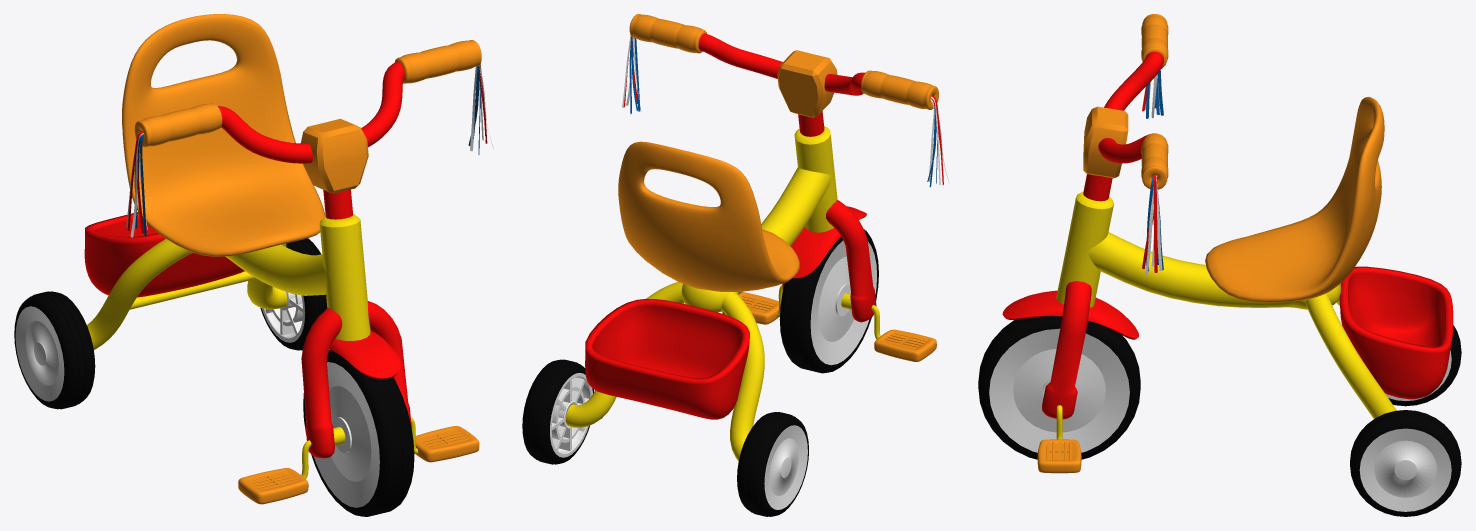
File: low_poly_kids_tricycle.glb
3 renders of one model, left to right at view 1: azimuth 30°, elevation 25°; view 2: azimuth 150°, elevation 25°; view 3: azimuth 270°, elevation 25°, orthographic. The views are drawn at different scales.
Visible parts, largest first — view 1: Cube.002, Cylinder.001, Cylinder.002, Cylinder, Cube, Circle, Cube.003, BezierCurve.001, Cube.004, BezierCurve.002, Cube.001, Cylinder.005 (+3 smaller); view 2: Cube.002, Cube, Cylinder.002, Cylinder.001, Cylinder, BezierCurve.001, Cube.003, Cube.004, Circle, BezierCurve.002, Cube.001, Plane.002 (+2 smaller); view 3: Cylinder.001, Cube.002, Cube, Cylinder.002, Cylinder, Circle, BezierCurve.001, Cube.003, Cube.004, Cylinder.005, BezierCurve.002, Plane.002 (+2 smaller).
Part boxes in pixels (box(x1,y1,x2,y2)): Cube.002: box(122, 14, 325, 256); Cylinder.001: box(303, 350, 414, 516); Cylinder.002: box(14, 238, 327, 409); Cylinder: box(225, 213, 370, 340); Cube: box(84, 212, 244, 297); Circle: box(301, 301, 411, 458); Cube.003: box(134, 40, 481, 147); BezierCurve.001: box(87, 239, 286, 349); Cube.004: box(301, 118, 368, 193); BezierCurve.002: box(218, 61, 404, 163); Cube.001: box(238, 426, 479, 504); Cylinder.005: box(329, 331, 400, 379); Cube.002: box(618, 141, 799, 291); Cube: box(585, 298, 749, 419); Cylinder.002: box(522, 359, 808, 516); Cylinder.001: box(779, 229, 878, 373); Cylinder: box(681, 126, 837, 312); BezierCurve.001: box(566, 282, 764, 460); Cube.003: box(629, 14, 938, 109); Cube.004: box(777, 50, 837, 117); Circle: box(782, 200, 876, 322); BezierCurve.002: box(698, 33, 864, 95); Cube.001: box(722, 292, 936, 361); Plane.002: box(622, 35, 949, 186); Cylinder.001: box(978, 315, 1140, 459); Cube.002: box(1205, 96, 1384, 302); Cube: box(1340, 266, 1453, 399); Cylinder.002: box(1350, 325, 1461, 516); Cylinder: box(1056, 191, 1340, 309); Circle: box(1042, 281, 1091, 419); BezierCurve.001: box(1306, 283, 1396, 418); Cube.003: box(1141, 14, 1168, 189); Cube.004: box(1083, 106, 1128, 178); Cylinder.005: box(1002, 290, 1138, 339); BezierCurve.002: box(1098, 51, 1163, 163); Plane.002: box(1142, 70, 1163, 276).
Bounding box in the file's own units: 3.85 × 3.97 × 4.71.
Materials: 1 (1 with a texture image).
